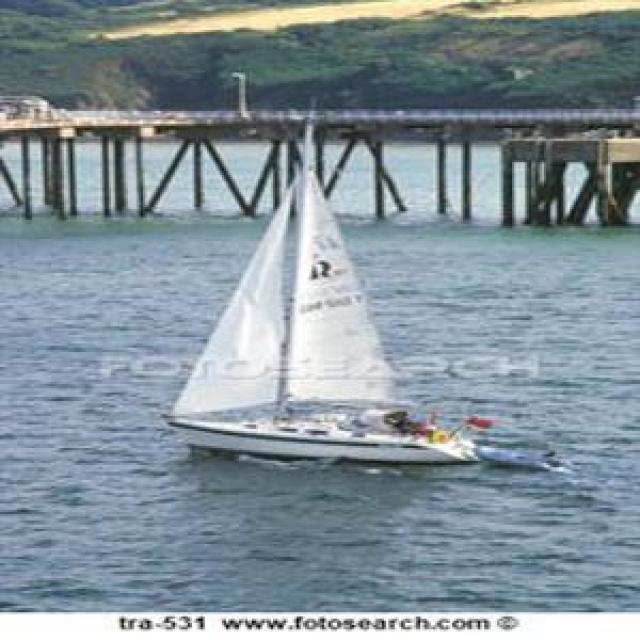sailboat: (167, 110, 475, 468)
